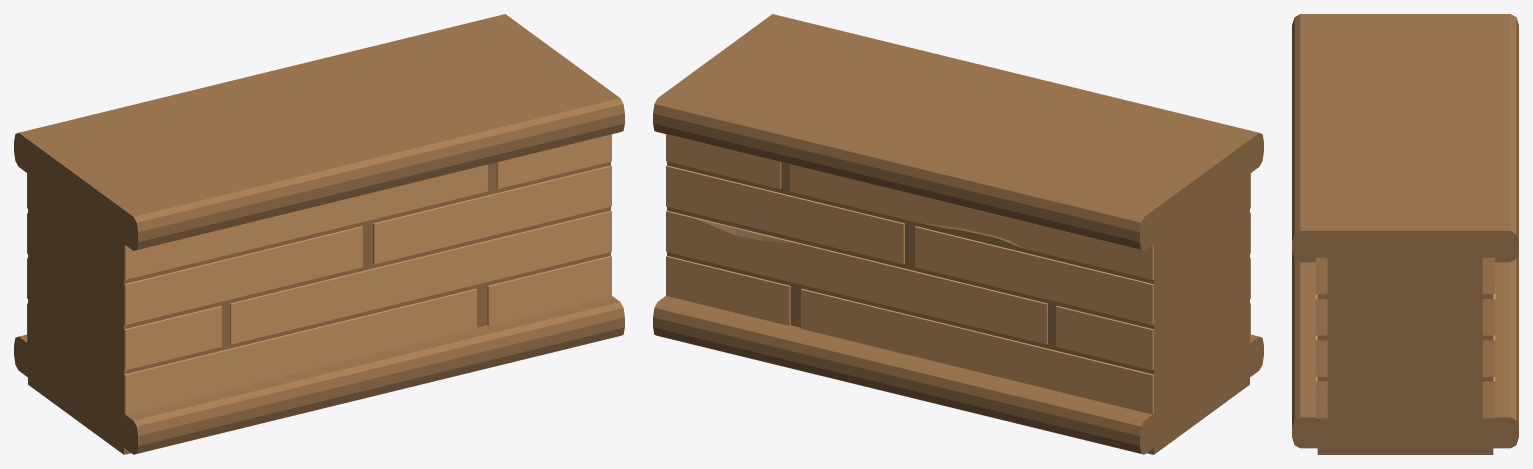
File: Counter_Straight.fbx
3 views of the same model, side by side, from view 1: azimuth 30°, elevation 25°; view 2: azimuth 150°, elevation 25°; view 3: azimuth 270°, elevation 25° (orthographic). The views are drawn at different scales.
Visible parts, largest first — view 1: Environment_Counter_Straight; view 2: Environment_Counter_Straight; view 3: Environment_Counter_Straight.
Part boxes in pixels (x1=…): Environment_Counter_Straight: x1=14, y1=14, x2=624, y2=454; Environment_Counter_Straight: x1=653, y1=14, x2=1263, y2=454; Environment_Counter_Straight: x1=1292, y1=14, x2=1518, y2=454.
Size of the model in its own units: 400 by 192 by 177.
